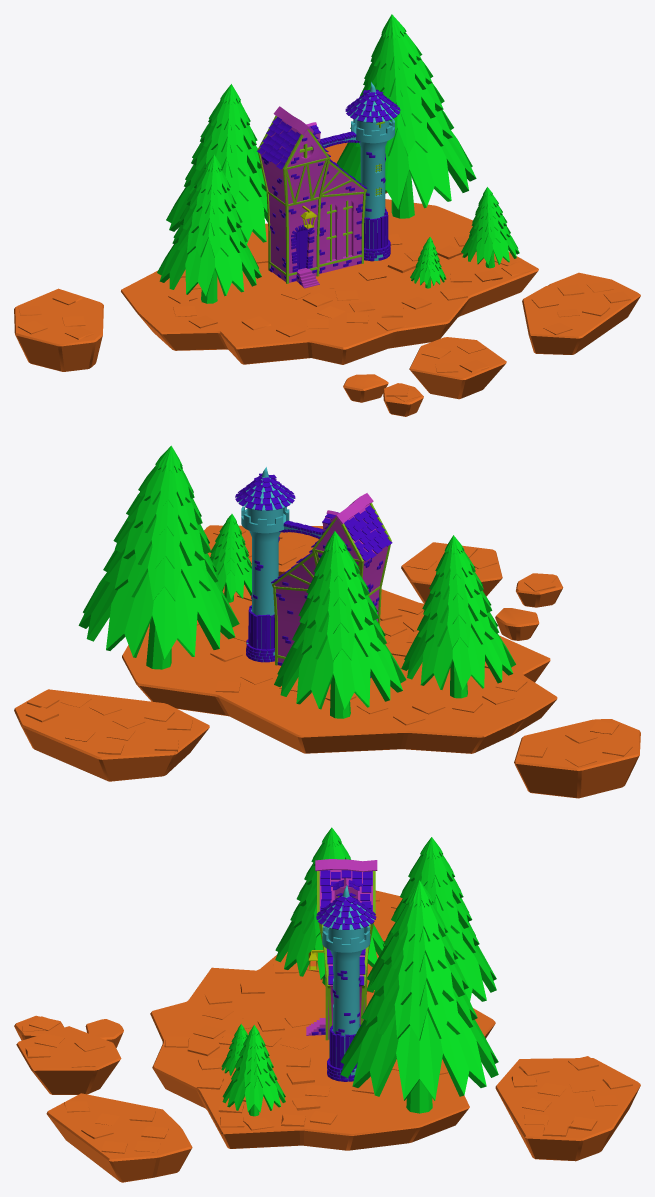
File: Fantasy.fbx
3 views of the same model, one above another, from view 1: azimuth 30°, elevation 25°; view 2: azimuth 150°, elevation 25°; view 3: azimuth 270°, elevation 25° (orthographic). The views are drawn at different scales.
Visible parts, largest first — view 1: Ground, Tree_01.001, Ground_blocks, Tree_01, House, Tree_01.003, Tower, Roof, Tree_01.002, House_woods_02, Bricks_01, House_woods_01 (+3 smaller); view 2: Ground, Tree_01.001, Tree_01.003, Ground_blocks, Tree_01, Tower, House, Roof, Tree_01.002, House_woods_02, Woods, Bricks_01 (+1 smaller); view 3: Ground, Tree_01.001, Ground_blocks, Tree_01.003, Tree_01, Tower, Tree_01.002, Roof, House_woods_02, House, House_roof_bark, Woods (+2 smaller).
Part boxes in pixels (left/top/right/bottom): Ground: left=14, top=142, right=640, bottom=416; Tree_01.001: left=336, top=14, right=476, bottom=218; Ground_blocks: left=18, top=234, right=630, bottom=401; Tree_01: left=157, top=154, right=261, bottom=303; House: left=260, top=120, right=364, bottom=282; Tree_01.003: left=166, top=84, right=267, bottom=243; Tower: left=347, top=91, right=398, bottom=260; Roof: left=257, top=89, right=400, bottom=188; Tree_01.002: left=461, top=187, right=519, bottom=268; House_woods_02: left=257, top=115, right=366, bottom=283; Bricks_01: left=262, top=137, right=390, bottom=284; House_woods_01: left=268, top=158, right=363, bottom=275; Ground: left=14, top=525, right=640, bottom=798; Tree_01.001: left=78, top=445, right=239, bottom=669; Tree_01.003: left=274, top=531, right=406, bottom=718; Ground_blocks: left=25, top=528, right=632, bottom=767; Tree_01: left=401, top=535, right=515, bottom=698; Tower: left=237, top=476, right=293, bottom=661; House: left=274, top=504, right=388, bottom=665; Roof: left=235, top=473, right=392, bottom=583; Tree_01.002: left=210, top=514, right=251, bottom=602; House_woods_02: left=272, top=503, right=391, bottom=665; Woods: left=248, top=605, right=274, bottom=649; Bricks_01: left=246, top=536, right=382, bottom=677; Ground: left=14, top=890, right=640, bottom=1182; Tree_01.001: left=340, top=880, right=498, bottom=1113; Ground_blocks: left=19, top=891, right=632, bottom=1153; Tree_01.003: left=367, top=837, right=496, bottom=1001; Tree_01: left=275, top=827, right=385, bottom=985; Tower: left=318, top=896, right=374, bottom=1081; Tree_01.002: left=222, top=1025, right=285, bottom=1116; Roof: left=316, top=870, right=376, bottom=985; House_woods_02: left=317, top=871, right=375, bottom=1057; House: left=319, top=870, right=372, bottom=1039; House_roof_bark: left=315, top=859, right=377, bottom=871; Woods: left=329, top=1024, right=360, bottom=1068.
Bounding box in the file's own units: 3457 × 1540 × 3362.
